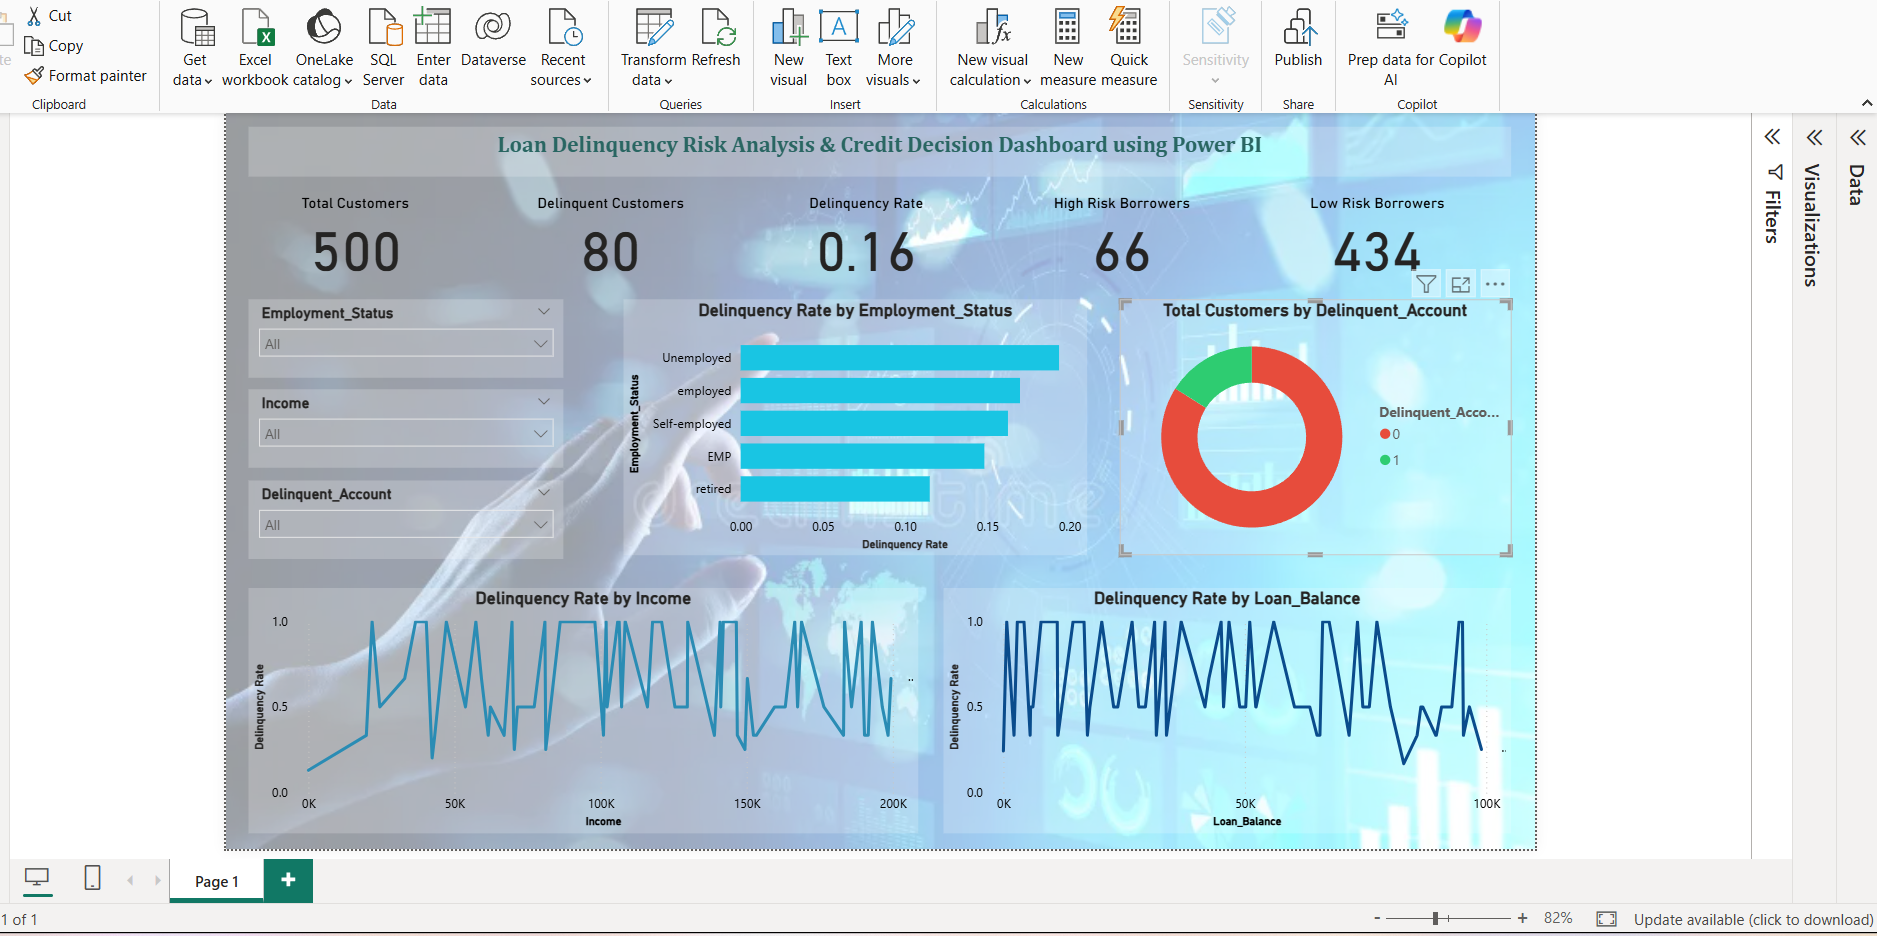

The dashboard page shown, as its layout file describes it:
{"tool":"powerbi","page":{"name":"Page 1","canvas":[1280,720],"ordinal":0},"visuals":[{"type":"cardVisual","fields":{"Data":["Delinquency_prediction_dataset.Total Customers","Delinquency_prediction_dataset.Delinquent Customers","Delinquency_prediction_dataset.Delinquency Rate","Delinquency_prediction_dataset.High Risk Borrowers","Delinquency_prediction_dataset.Low Risk Borrowers"]},"box":[0,62.4,1257.1,119.8],"z":0},{"type":"lineChart","fields":{"Category":["Delinquency_prediction_dataset.Income"],"Y":["Delinquency_prediction_dataset.Delinquency Rate"]},"box":[22,464.7,655.4,239.7],"z":1},{"type":"lineChart","fields":{"Y":["Delinquency_prediction_dataset.Delinquency Rate"],"Category":["Delinquency_prediction_dataset.Loan_Balance"]},"box":[701.9,464.7,555.2,239.7],"z":2},{"type":"clusteredBarChart","fields":{"Y":["Delinquency_prediction_dataset.Delinquency Rate"],"Category":["Delinquency_prediction_dataset.Employment_Status"]},"box":[388.9,182.2,453.7,250.7],"z":3},{"type":"donutChart","fields":{"Y":["Delinquency_prediction_dataset.Total Customers"],"Category":["Delinquency_prediction_dataset.Delinquent_Account"]},"box":[874.3,182.2,382.7,250.7],"z":4},{"type":"slicer","fields":{"Values":["Delinquency_prediction_dataset.Employment_Status"]},"box":[22,182.2,308.2,77],"z":5},{"type":"slicer","fields":{"Values":["Delinquency_prediction_dataset.Income"]},"box":[22,270.2,308.2,77],"z":6},{"type":"slicer","fields":{"Values":["Delinquency_prediction_dataset.Delinquent_Account"]},"box":[22,359.5,308.2,77],"z":7},{"type":"textbox","box":[22,13.5,1235.1,48.9],"z":8}]}

Visuals, with their boxes on the page's 1280x720 design canvas (x1, y1, x2, y2). These are canvas units, not pixel positions in the 1877x936 screenshot, which may show the page scaled, cropped or inside an application window:
cardVisual - Delinquency_prediction_dataset.Total Customers x Delinquency_prediction_dataset.Delinquent Customers: bbox=[0, 62, 1257, 182]
lineChart - Delinquency_prediction_dataset.Income x Delinquency_prediction_dataset.Delinquency Rate: bbox=[22, 465, 677, 704]
lineChart - Delinquency_prediction_dataset.Delinquency Rate x Delinquency_prediction_dataset.Loan_Balance: bbox=[702, 465, 1257, 704]
clusteredBarChart - Delinquency_prediction_dataset.Delinquency Rate x Delinquency_prediction_dataset.Employment_Status: bbox=[389, 182, 843, 433]
donutChart - Delinquency_prediction_dataset.Total Customers x Delinquency_prediction_dataset.Delinquent_Account: bbox=[874, 182, 1257, 433]
slicer - Delinquency_prediction_dataset.Employment_Status: bbox=[22, 182, 330, 259]
slicer - Delinquency_prediction_dataset.Income: bbox=[22, 270, 330, 347]
slicer - Delinquency_prediction_dataset.Delinquent_Account: bbox=[22, 360, 330, 436]
textbox: bbox=[22, 14, 1257, 62]
